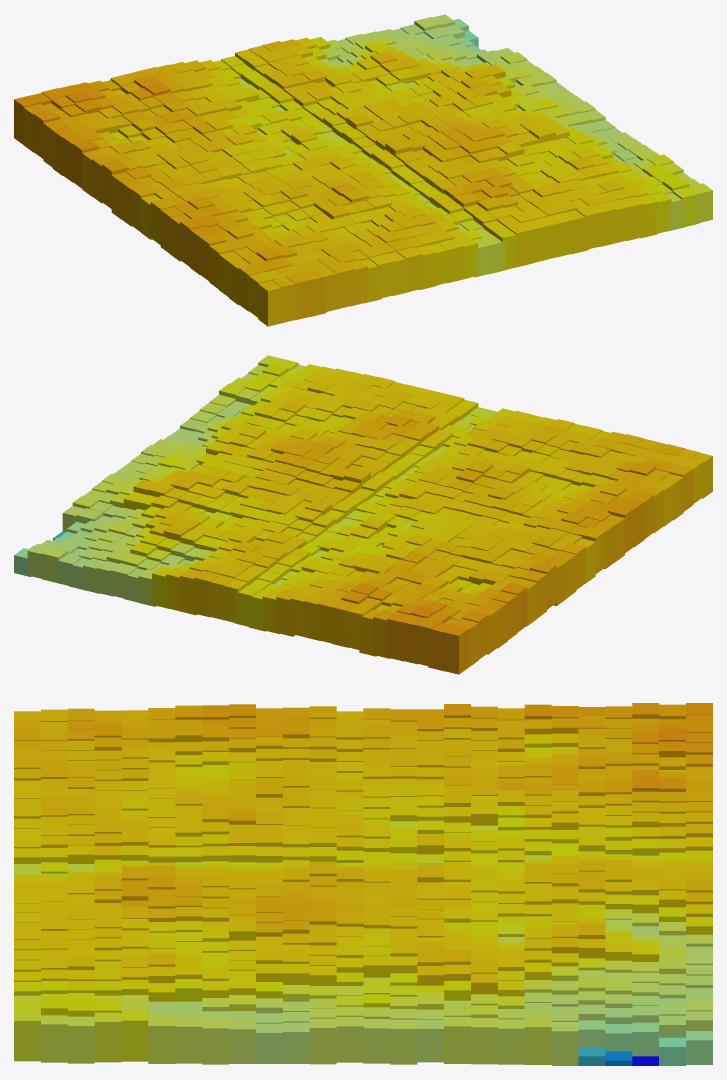
File: population.glb
3 renders of one model, top to bottom at view 1: azimuth 30°, elevation 25°; view 2: azimuth 150°, elevation 25°; view 3: azimuth 270°, elevation 25°, orthographic. The views are drawn at different scales.
Visible parts, largest first — view 1: population; view 2: population; view 3: population.
Part boxes in pixels (x1,y1,x2,y2): population: (14,14,712,326); population: (14,355,712,674); population: (14,703,712,1065).
Size of the model in its own units: 2622 by 271 by 2591.
